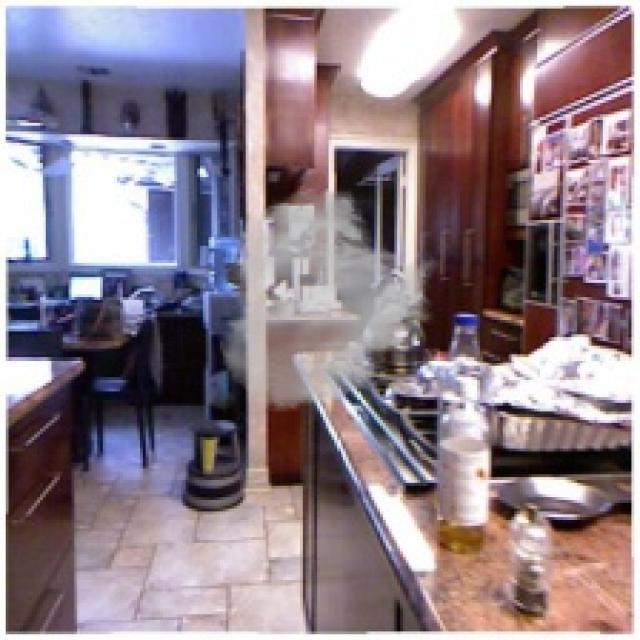smoke: (217, 186, 440, 414)
